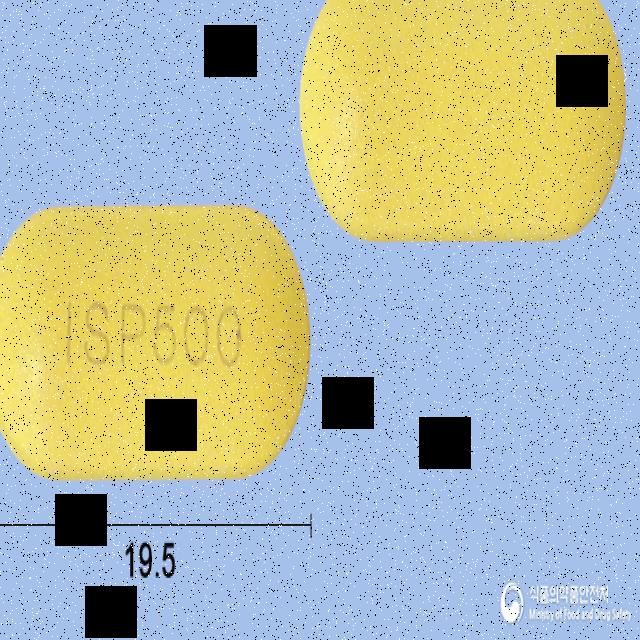Ilsung Clarithromycin: (0, 202, 312, 475)
